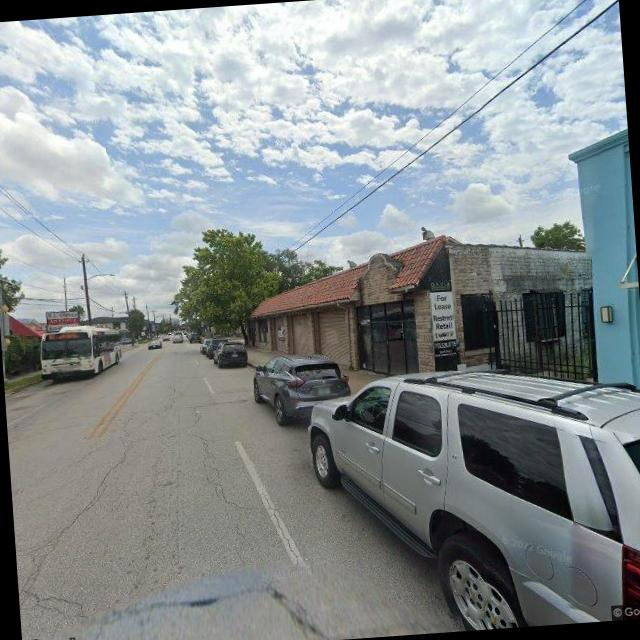crack: (18, 580, 88, 621)
pothole: (34, 415, 144, 551), (192, 428, 234, 509)
